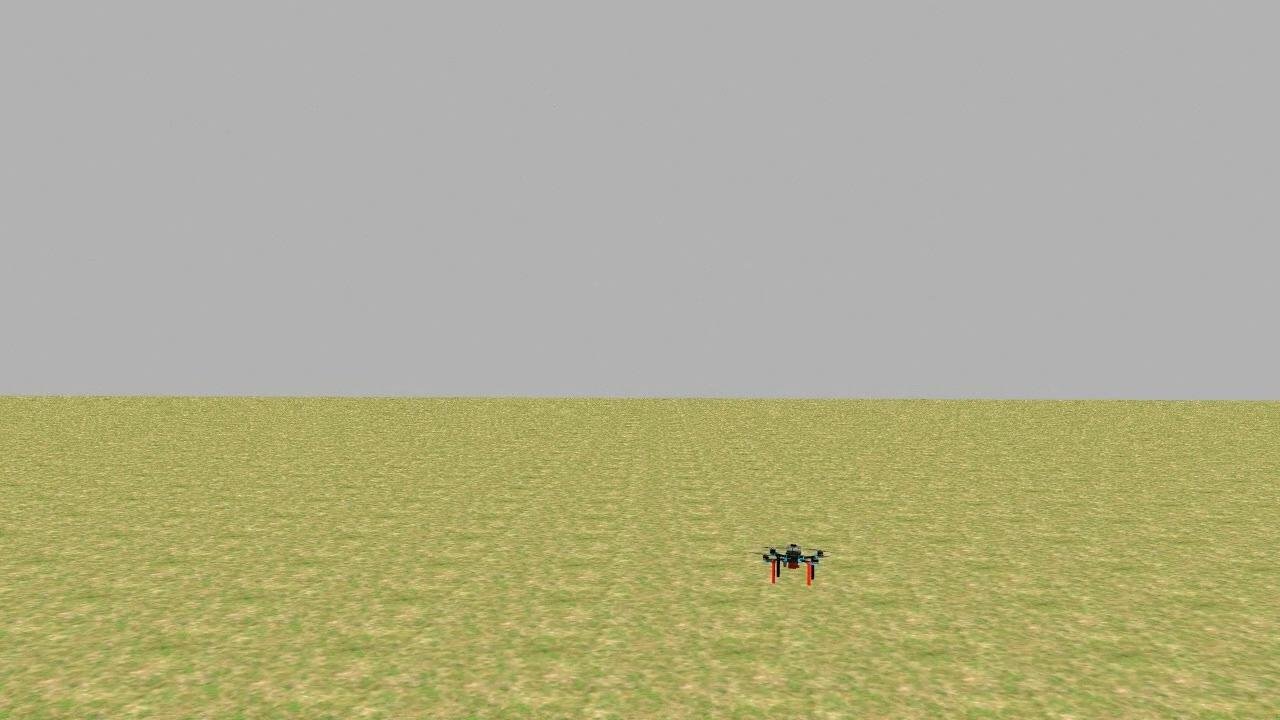UAV: (740, 524, 848, 599)
